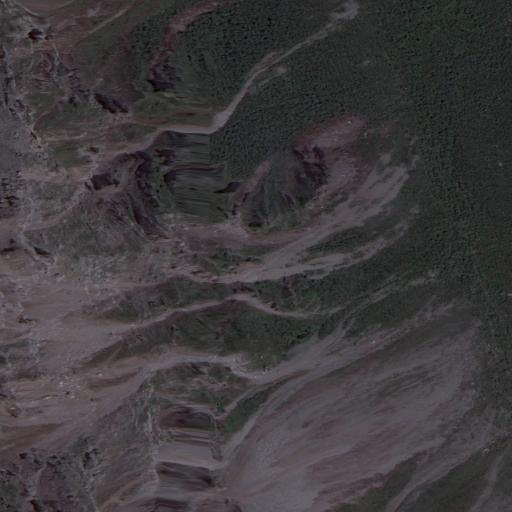landslide: (2, 172, 489, 505)
